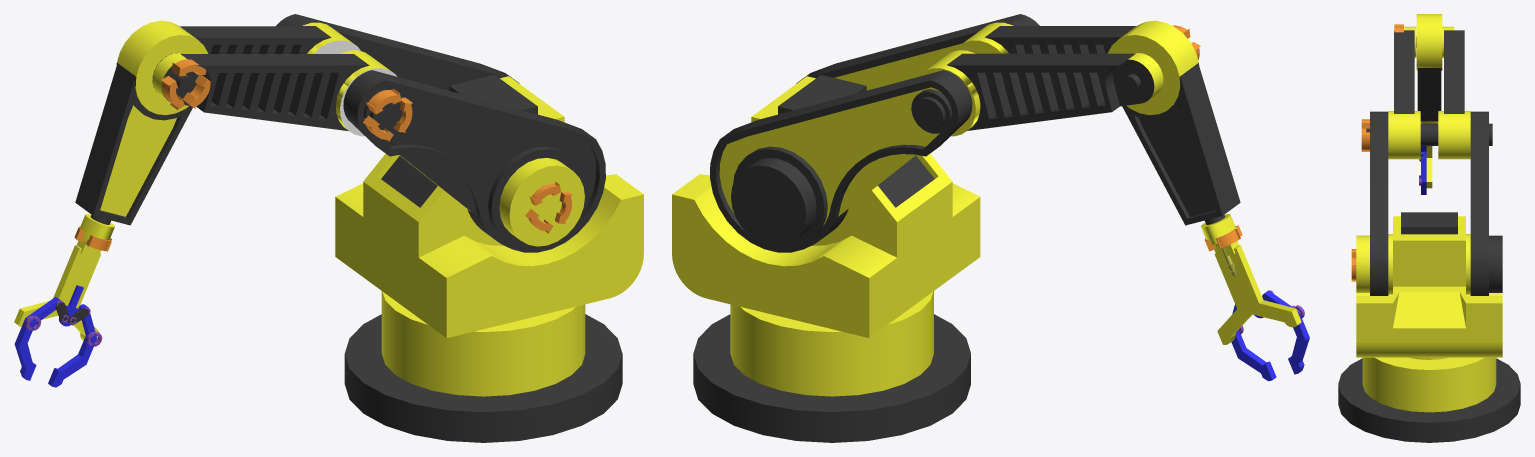
File: Bote.fbx
3 views of the same model, side by side, from view 1: azimuth 30°, elevation 25°; view 2: azimuth 150°, elevation 25°; view 3: azimuth 270°, elevation 25° (orthographic). The views are drawn at different scales.
Visible parts, largest first — view 1: convexhull3, staticmesh, convexhull2, convexhull1, convexhull, sphere, Group1, Group3, convexhull5, Group4, convexhull4; view 2: convexhull3, staticmesh, convexhull2, convexhull1, convexhull, sphere, convexhull5, convexhull4; view 3: convexhull3, staticmesh, convexhull2, convexhull1, convexhull, sphere, Group3, convexhull4, Group4.
Part boxes in pixels (x1,y1,x2,y2): convexhull3: [335, 75, 643, 338]; staticmesh: [344, 291, 622, 442]; convexhull2: [276, 14, 605, 252]; convexhull1: [152, 22, 397, 136]; convexhull: [75, 20, 208, 225]; sphere: [14, 214, 114, 340]; Group1: [161, 59, 210, 110]; Group3: [363, 88, 412, 141]; convexhull5: [14, 297, 60, 380]; Group4: [525, 182, 572, 233]; convexhull4: [48, 304, 97, 387]; convexhull3: [672, 74, 980, 338]; staticmesh: [693, 291, 970, 442]; convexhull2: [710, 14, 1039, 252]; convexhull1: [918, 22, 1163, 136]; convexhull: [1107, 20, 1240, 225]; sphere: [1201, 214, 1301, 344]; convexhull5: [1262, 290, 1309, 374]; convexhull4: [1231, 304, 1276, 381]; convexhull3: [1356, 212, 1502, 359]; staticmesh: [1338, 357, 1520, 442]; convexhull2: [1366, 111, 1492, 295]; convexhull1: [1388, 26, 1470, 159]; convexhull: [1416, 14, 1442, 121]; sphere: [1420, 121, 1438, 188]; Group3: [1361, 119, 1369, 151]; convexhull4: [1421, 156, 1426, 194]; Group4: [1351, 249, 1356, 281].
Bounding box in the file's own units: 3320 × 2361 × 1350.
